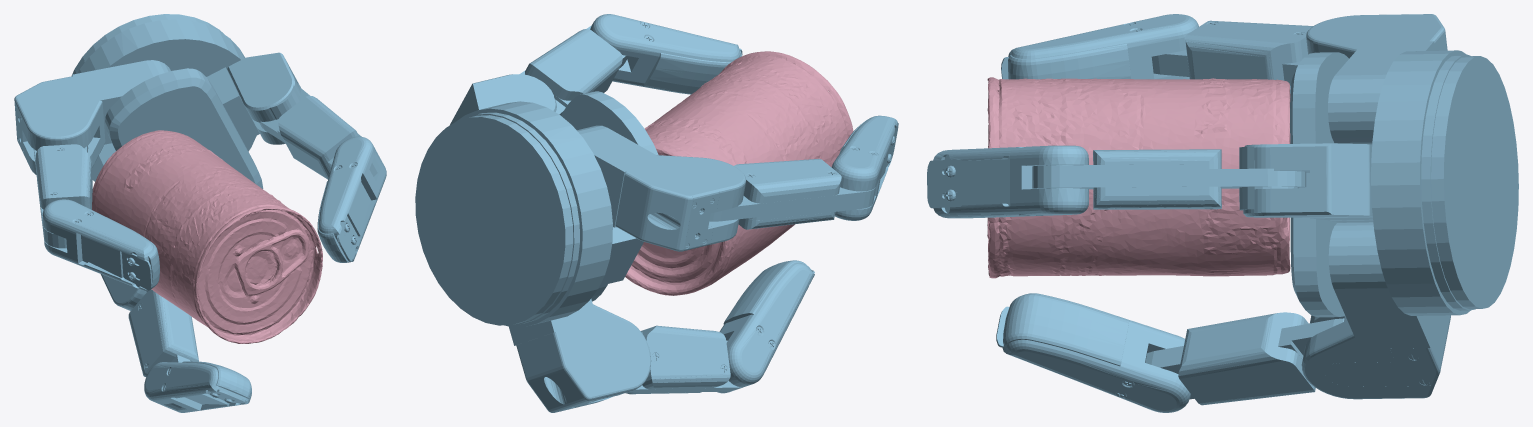
3 views of the same model, side by side, from view 1: azimuth 30°, elevation 25°; view 2: azimuth 150°, elevation 25°; view 3: azimuth 270°, elevation 25° (orthographic). The views are drawn at different scales.
Visible parts, largest first — view 1: world, tomato_soup_can.stl; view 2: world, tomato_soup_can.stl; view 3: world, tomato_soup_can.stl.
Part boxes in pixels (x1=…): world: x1=14, y1=14, x2=386, y2=412; tomato_soup_can.stl: x1=92, y1=130, x2=322, y2=343; world: x1=415, y1=14, x2=898, y2=412; tomato_soup_can.stl: x1=625, y1=51, x2=853, y2=295; world: x1=927, y1=14, x2=1518, y2=412; tomato_soup_can.stl: x1=987, y1=77, x2=1290, y2=278.
Size of the model in its own units: 0.1661 by 0.1502 by 0.1988.
